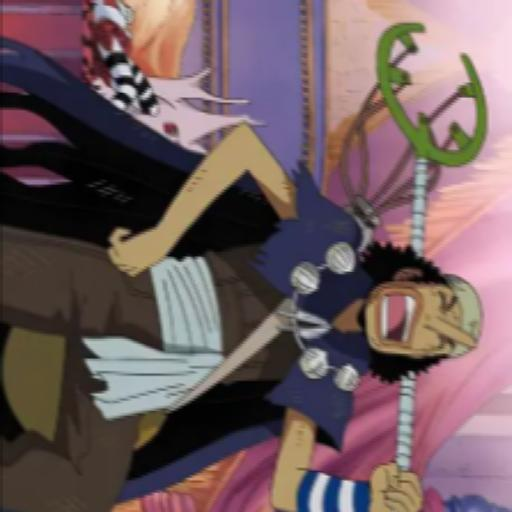Usopp: (0, 17, 505, 509)
